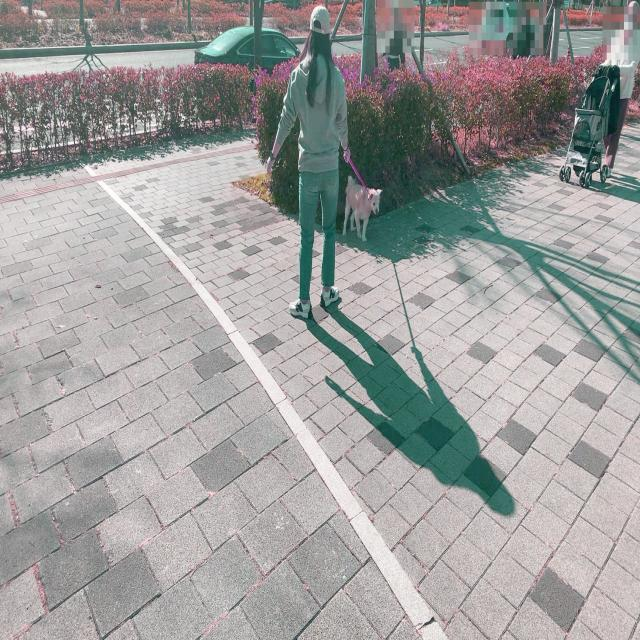Leashed_Dog: (321, 130, 382, 243)
